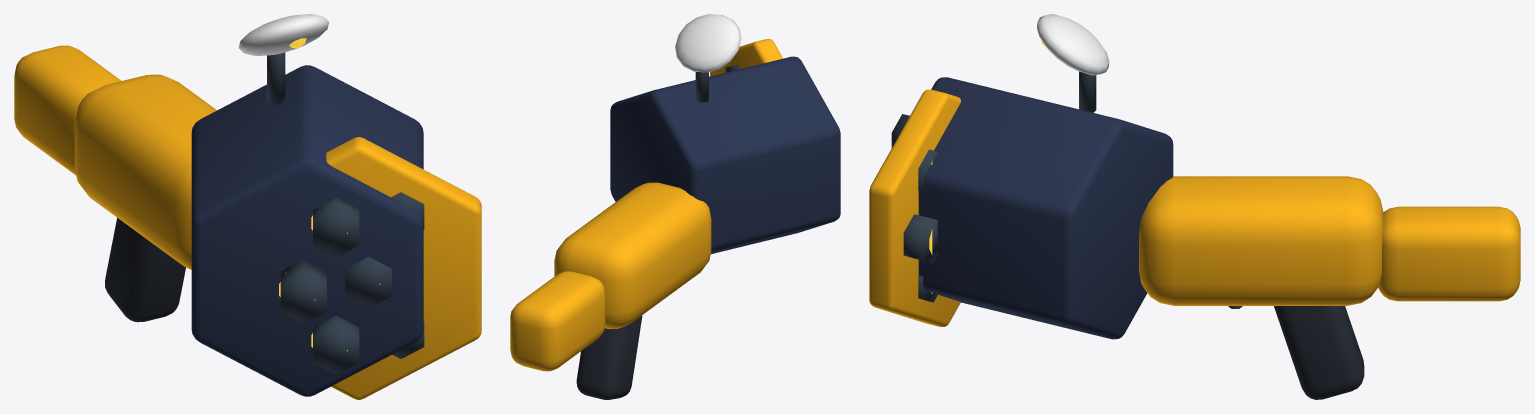
Rendered from wpn_seeker.glb.
3 views of the same model, side by side, from view 1: azimuth 30°, elevation 25°; view 2: azimuth 150°, elevation 25°; view 3: azimuth 270°, elevation 25° (orthographic). The views are drawn at different scales.
Parts seen in each view (by area): view 1: pod, body, pod_ring, stock, grip, tube_4, dish, tube_5, tube_3, tube_0, mast; view 2: pod, body, stock, grip, dish, pod_ring, mast; view 3: pod, body, stock, pod_ring, grip, dish, tube_1, mast.
Boxes of the visible parts, x1,y1,x2,y2 form: pod: [191, 65, 423, 396]; body: [74, 74, 216, 269]; pod_ring: [326, 137, 481, 399]; stock: [14, 45, 121, 175]; grip: [105, 217, 185, 322]; tube_4: [280, 259, 326, 323]; dish: [238, 14, 328, 56]; tube_5: [313, 315, 359, 374]; tube_3: [313, 198, 359, 257]; tube_0: [345, 256, 391, 308]; mast: [267, 52, 285, 104]; pod: [610, 56, 840, 253]; body: [554, 182, 711, 328]; stock: [510, 271, 605, 371]; grip: [576, 315, 642, 399]; dish: [675, 14, 741, 72]; pod_ring: [710, 39, 782, 76]; mast: [695, 72, 708, 102]; pod: [918, 77, 1173, 339]; body: [1139, 176, 1383, 305]; stock: [1378, 206, 1520, 301]; pod_ring: [869, 89, 960, 326]; grip: [1274, 306, 1364, 399]; dish: [1037, 14, 1109, 75]; tube_1: [903, 214, 937, 263]; mast: [1079, 71, 1096, 112].
Size of the model in its own units: 0.3957 by 0.5711 by 0.9022.
